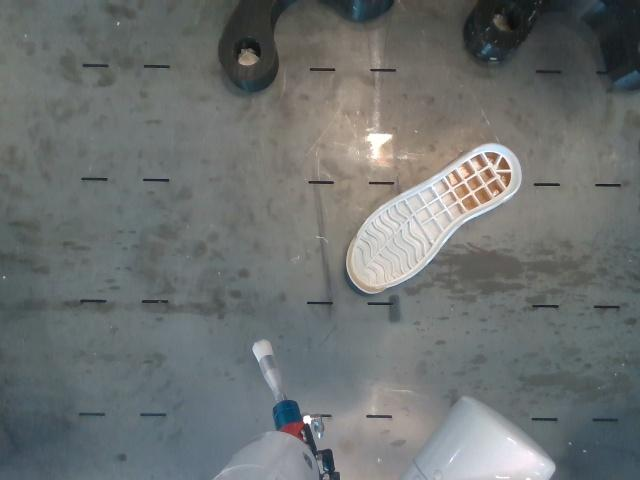shoes: (347, 145, 519, 292)
